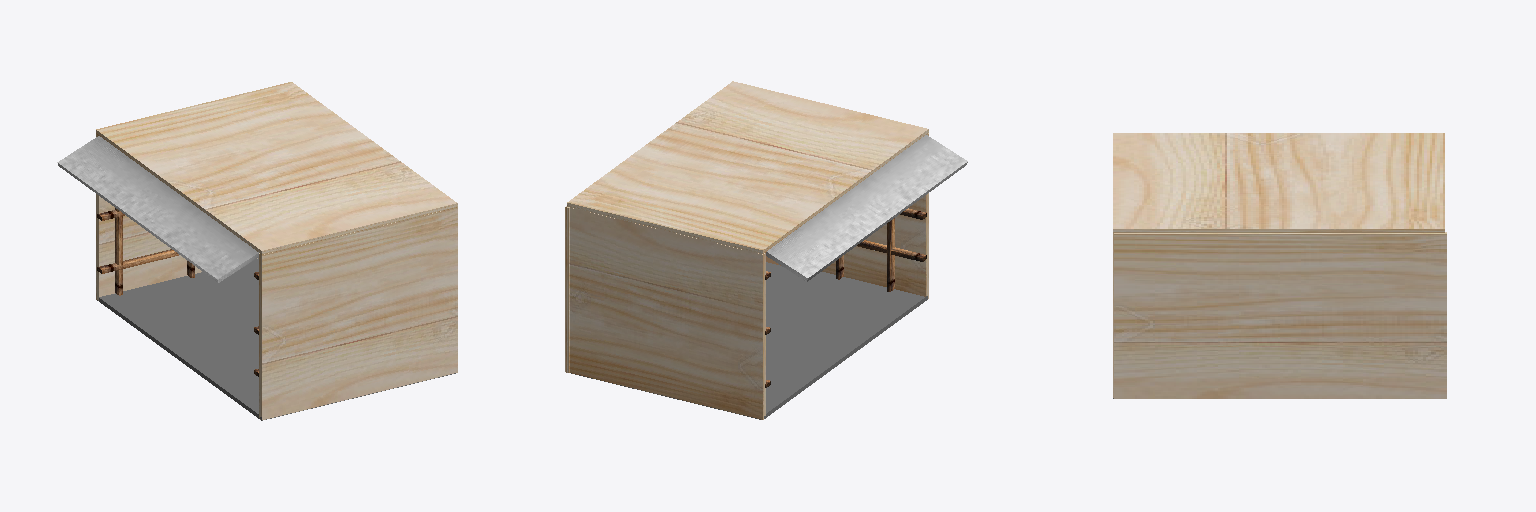
3 renders of one model, left to right at view 1: azimuth 30°, elevation 25°; view 2: azimuth 150°, elevation 25°; view 3: azimuth 270°, elevation 25°, orthographic.
Size of the model in its own units: 35.5 by 24.15 by 42.94.
6 materials, 5 textured.